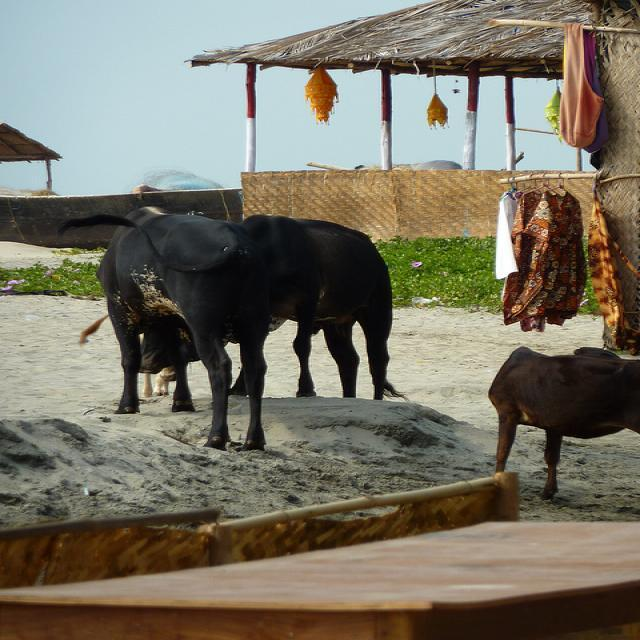cow: (58, 204, 266, 455), (137, 214, 392, 401), (484, 346, 636, 501)
